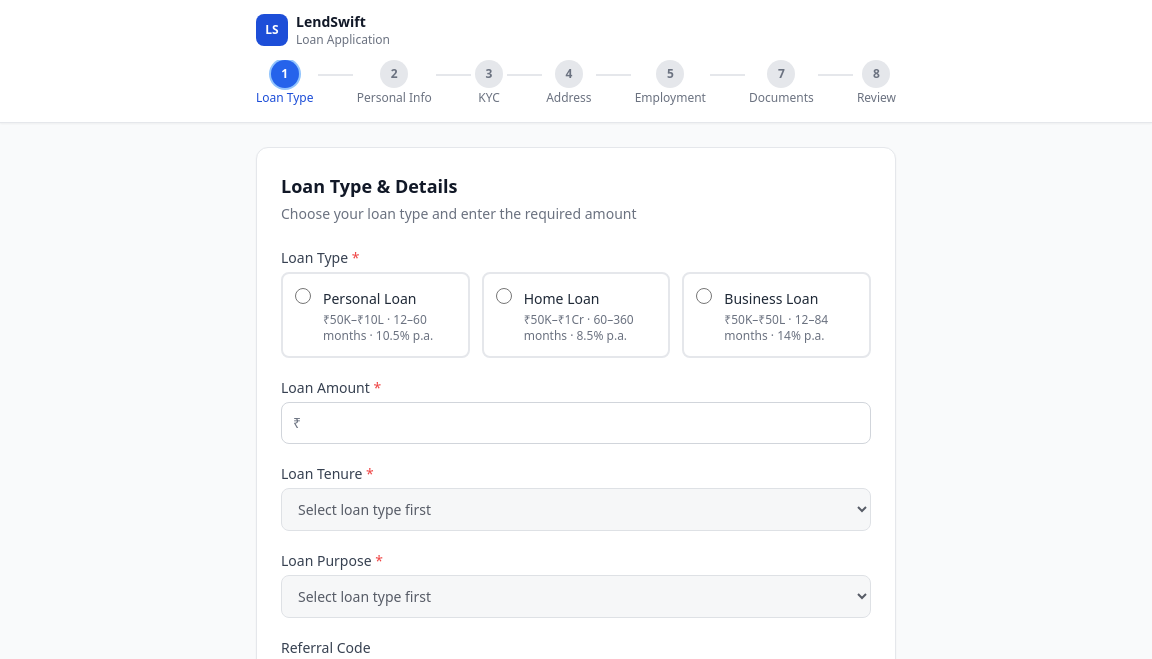
it: Business Loan Happy Path (#3 P0) › selects business loan type and shows business employment options
This screenshot has width=1152, height=659.
Check the radio button named "loanType": (704, 296) [696, 288, 712, 304]
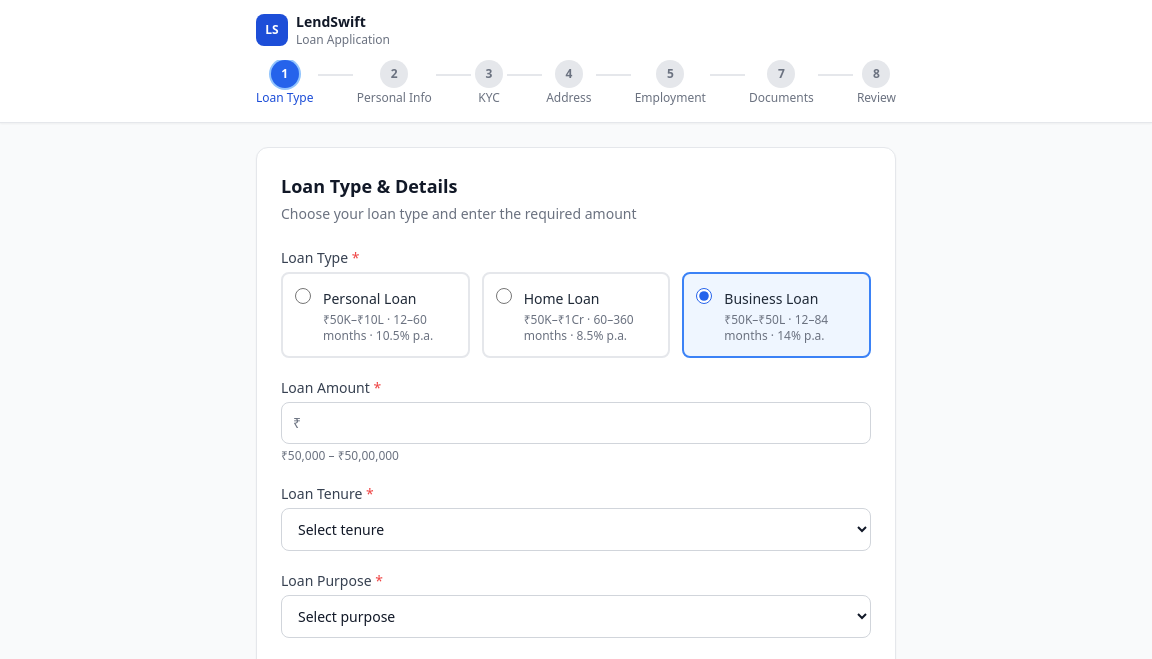
expect the text "₹50,000 – ₹50,00,000" is shown: met, box [281, 447, 399, 464]
